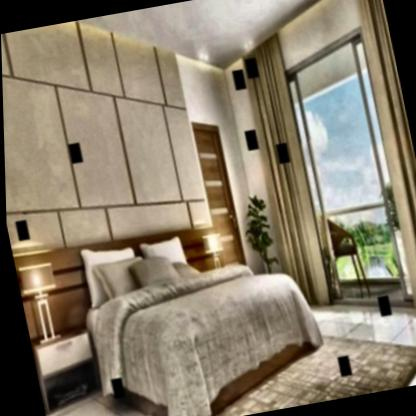Bed: (67, 201, 329, 416)
Curtains: (225, 23, 336, 312), (343, 0, 416, 318)
Lamp: (13, 258, 73, 348)
Nightstand: (27, 324, 101, 414)
